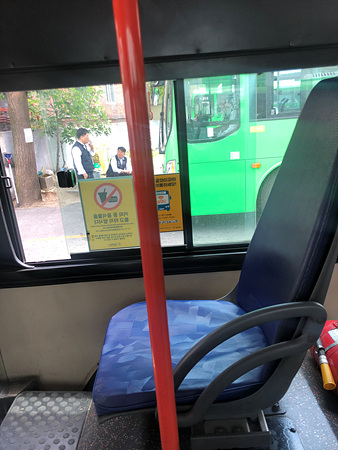seat: (98, 72, 332, 415)
